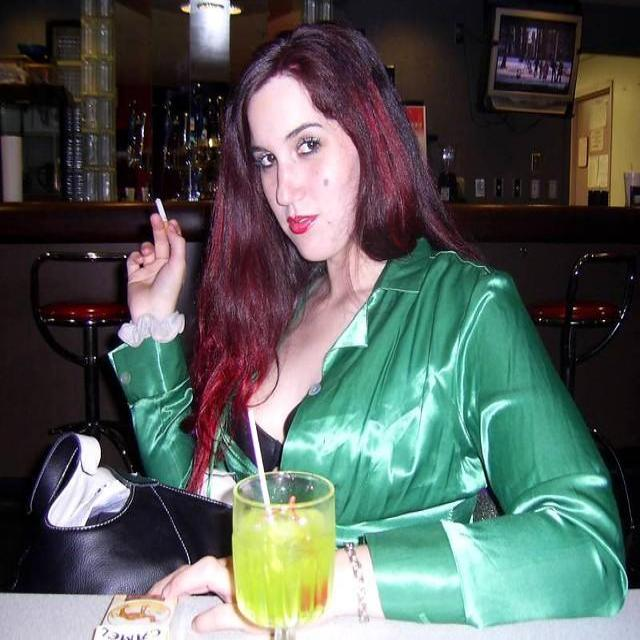Сигарета: (155, 194, 171, 232)
Тело: (114, 31, 626, 640)
